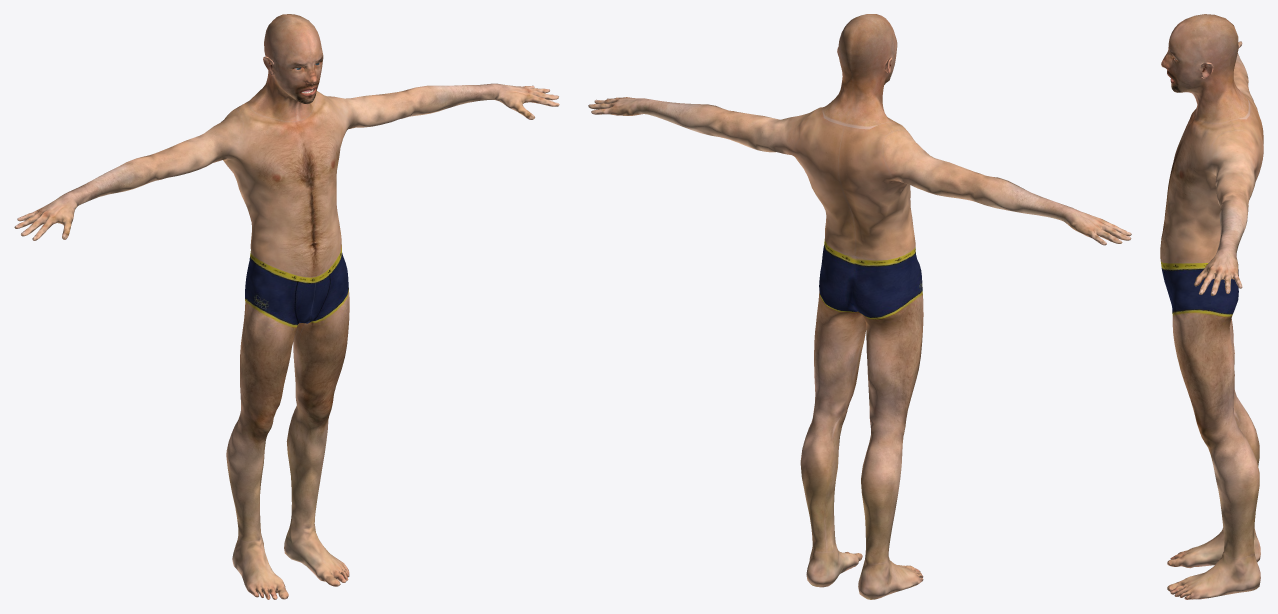
3 views of the same model, side by side, from view 1: azimuth 30°, elevation 25°; view 2: azimuth 150°, elevation 25°; view 3: azimuth 270°, elevation 25° (orthographic).
Visible parts, largest first — view 1: umich_ucs.json; view 2: umich_ucs.json; view 3: umich_ucs.json.
Boxes of the visible parts, x1,y1,x2,y2 form: umich_ucs.json: [14, 14, 559, 599]; umich_ucs.json: [588, 14, 1131, 599]; umich_ucs.json: [1160, 14, 1263, 599].
Bounding box in the file's own units: 187 × 187 × 31.13.
Materials: 1 (1 with a texture image).
